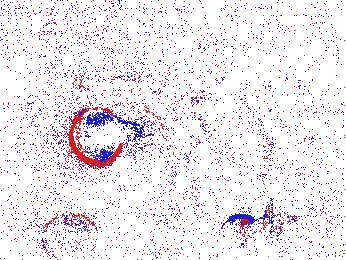flame jellyfish: (216, 196, 298, 260), (70, 106, 144, 167), (40, 211, 99, 260)
